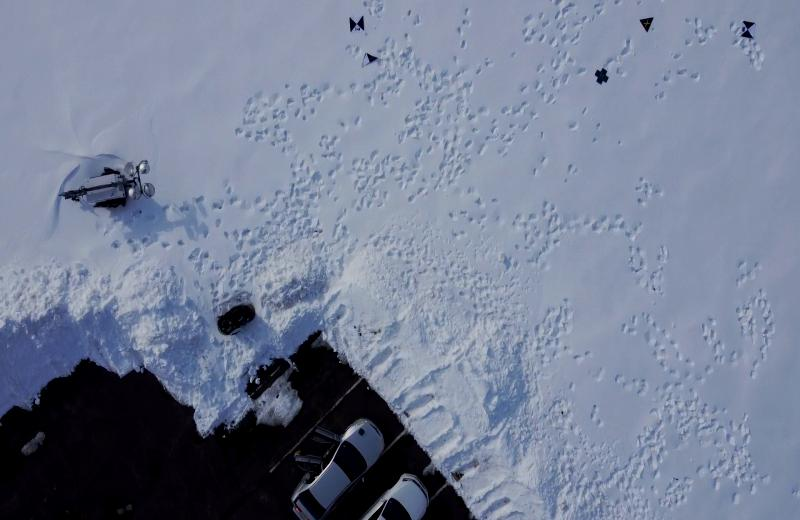Cross: (593, 67, 611, 86)
Triangle: (639, 16, 656, 33)
